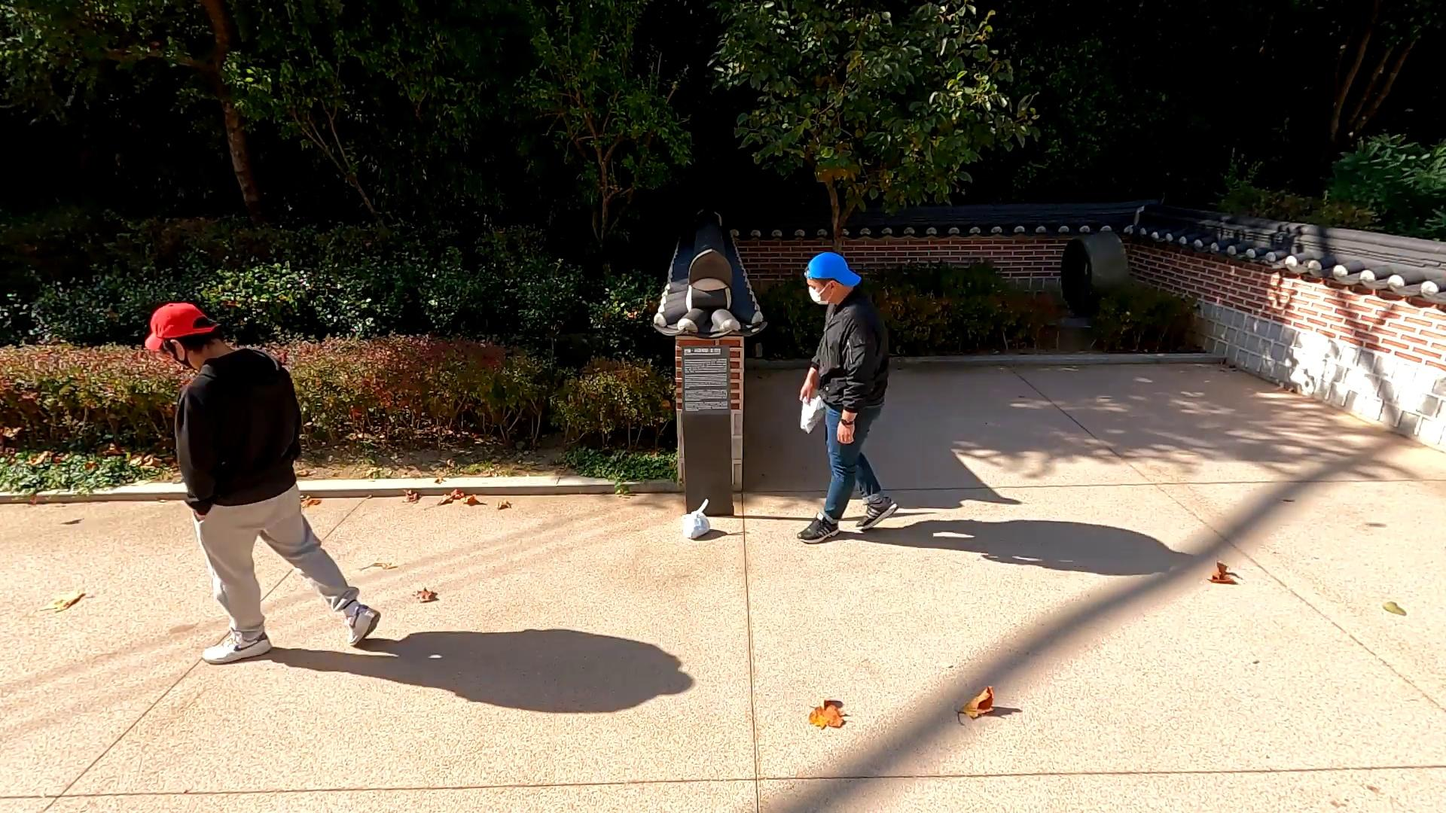person: (135, 296, 389, 670), (787, 242, 903, 550)
trash: (672, 499, 721, 548), (793, 383, 831, 438)
